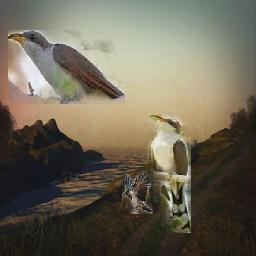Crow: (123, 170, 154, 215)
Cuckoo: (9, 30, 126, 104), (147, 115, 191, 233)
